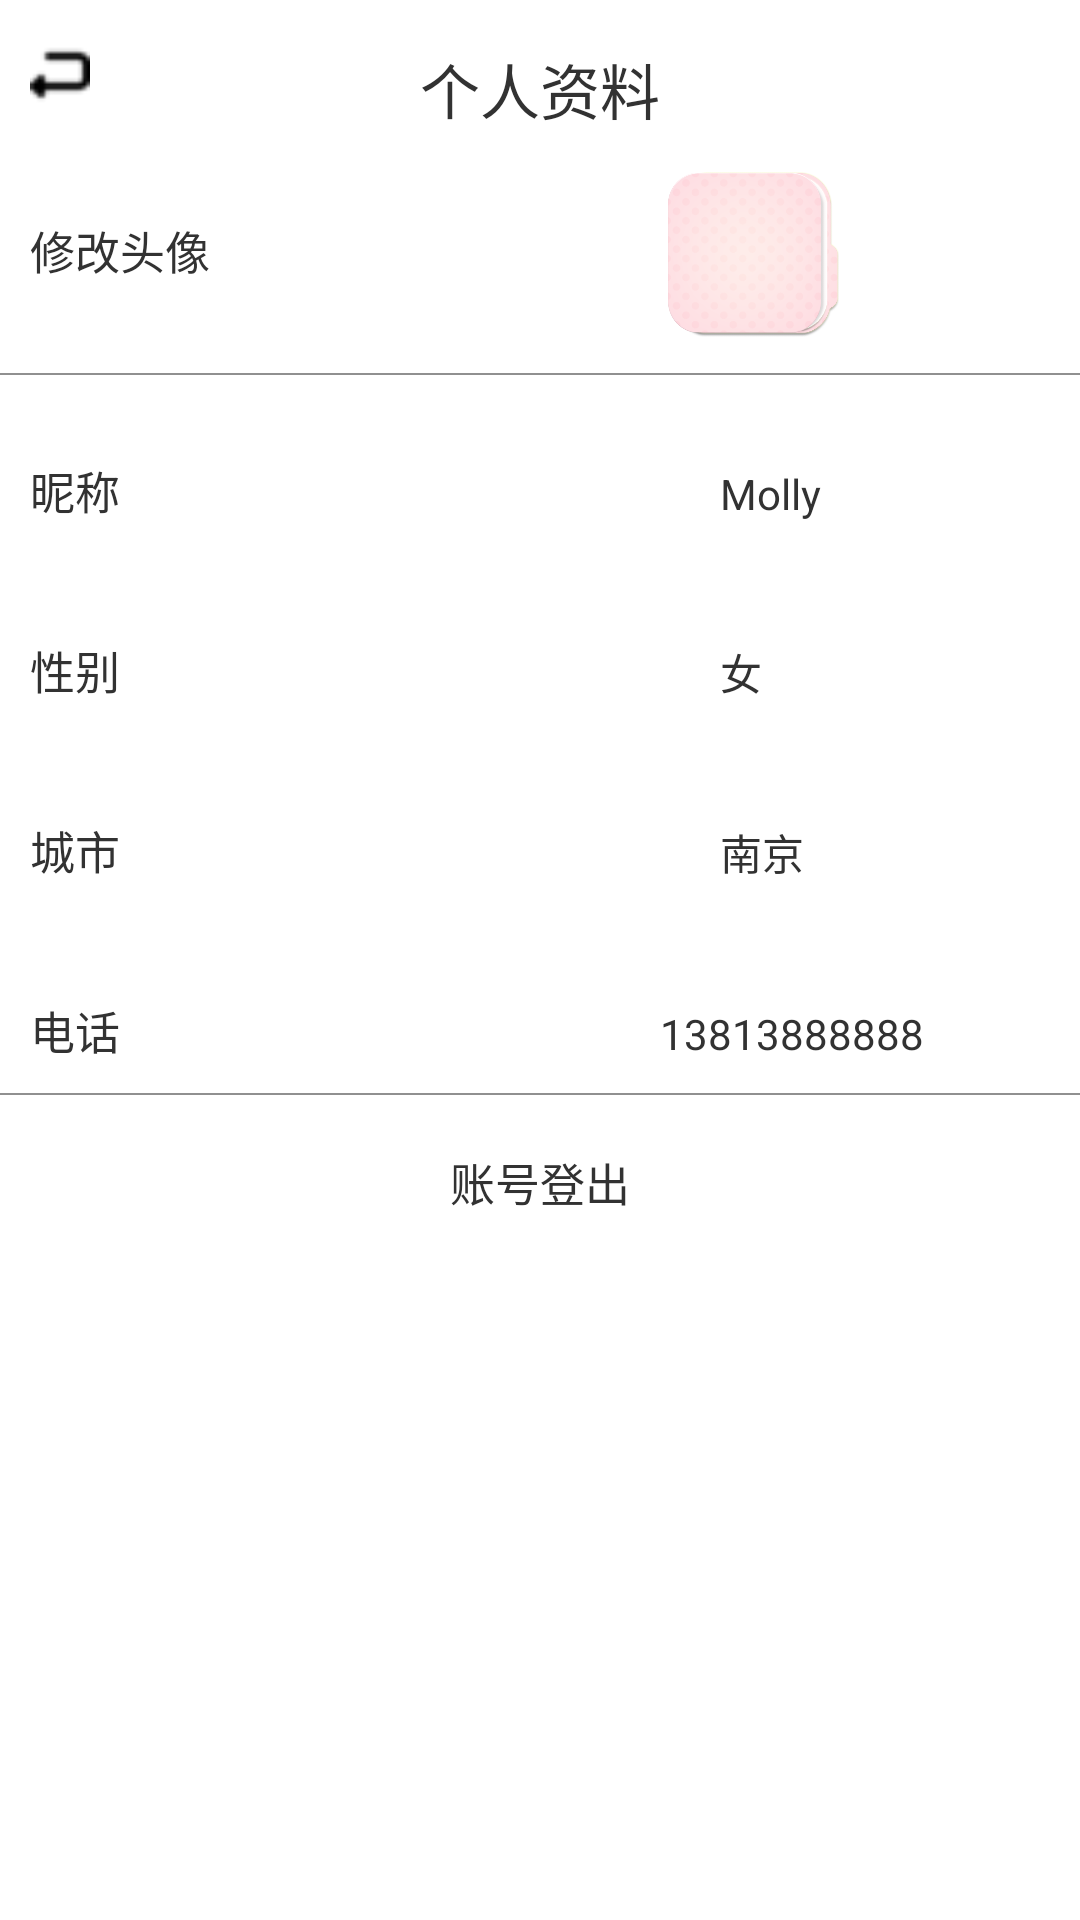

Locate icon controls on the screen. Image size 1080px×1920px, boxes as (x1, y1, x2, y2).
back: (30, 50, 90, 99)
